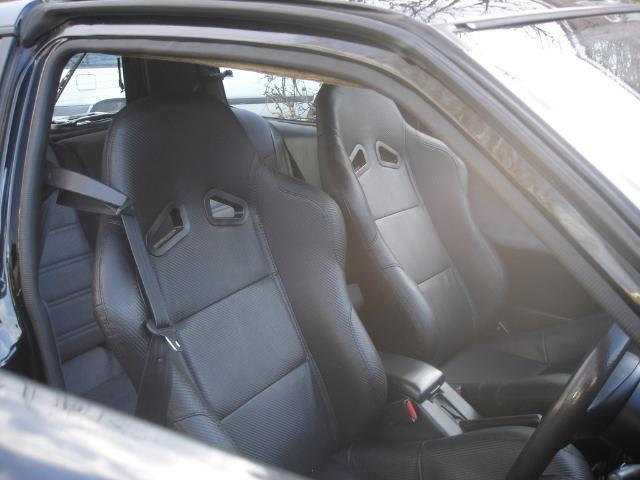Seatbelt: (116, 212, 184, 426), (287, 150, 305, 184)
